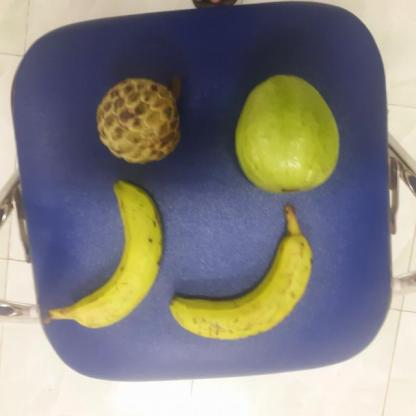banana: (171, 230, 317, 343), (71, 181, 164, 334)
guava: (235, 74, 340, 194), (90, 77, 184, 166)
